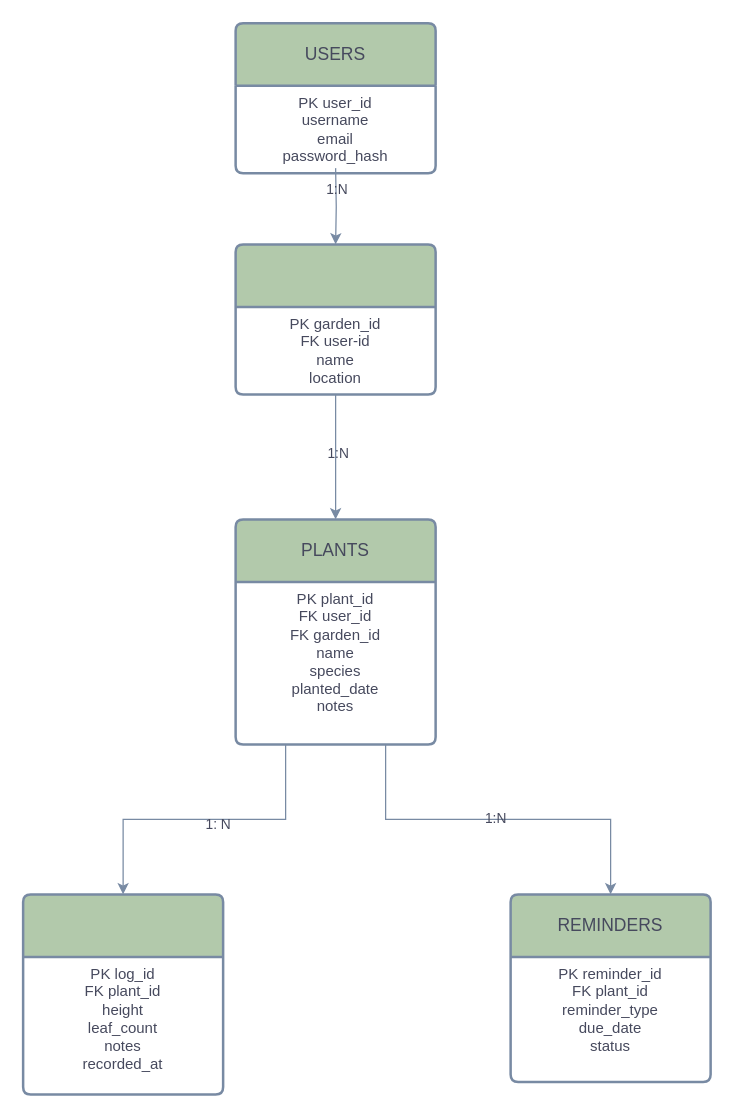
Image size: 733x1116. Some labels were removed from this diagram. Here are the shapes that lost their labels. From the top down, the box of each, then its label:
(234, 242, 436, 395): GARDENS
(21, 892, 224, 1095): GROWTH_LOGS
